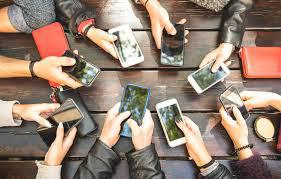Hand: (149, 3, 191, 51), (34, 51, 82, 91), (99, 96, 126, 147), (176, 114, 204, 157), (217, 106, 251, 141), (81, 24, 116, 55), (19, 100, 60, 126), (202, 40, 233, 74), (130, 106, 156, 146), (44, 126, 72, 157), (246, 94, 281, 114)
Smartphone: (30, 27, 74, 85), (111, 85, 152, 141), (34, 97, 81, 141), (60, 90, 101, 138), (188, 56, 229, 94), (162, 91, 192, 141), (160, 22, 190, 69), (238, 51, 281, 81), (107, 27, 141, 63), (60, 49, 107, 75), (217, 88, 248, 124)
